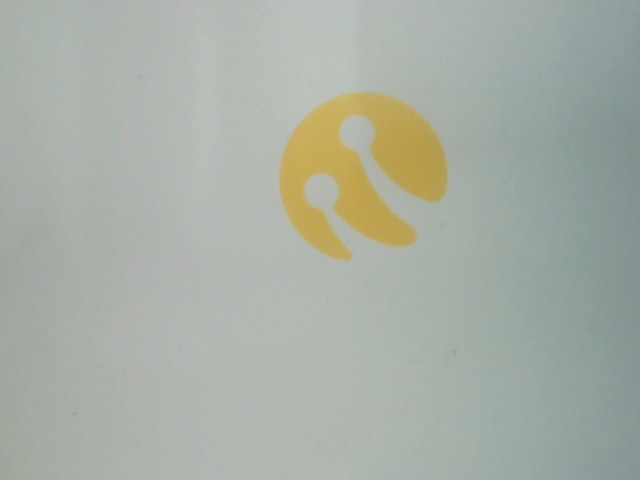AV_H3600Yellow: (260, 82, 462, 268)
